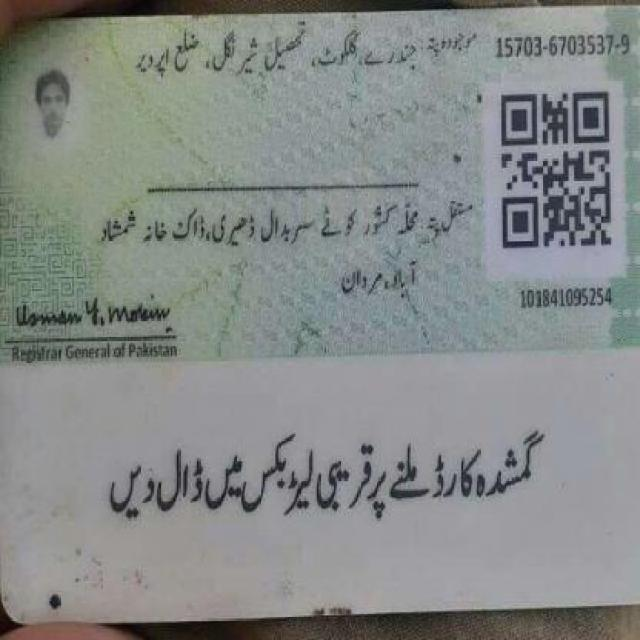Back: (4, 11, 636, 589)
